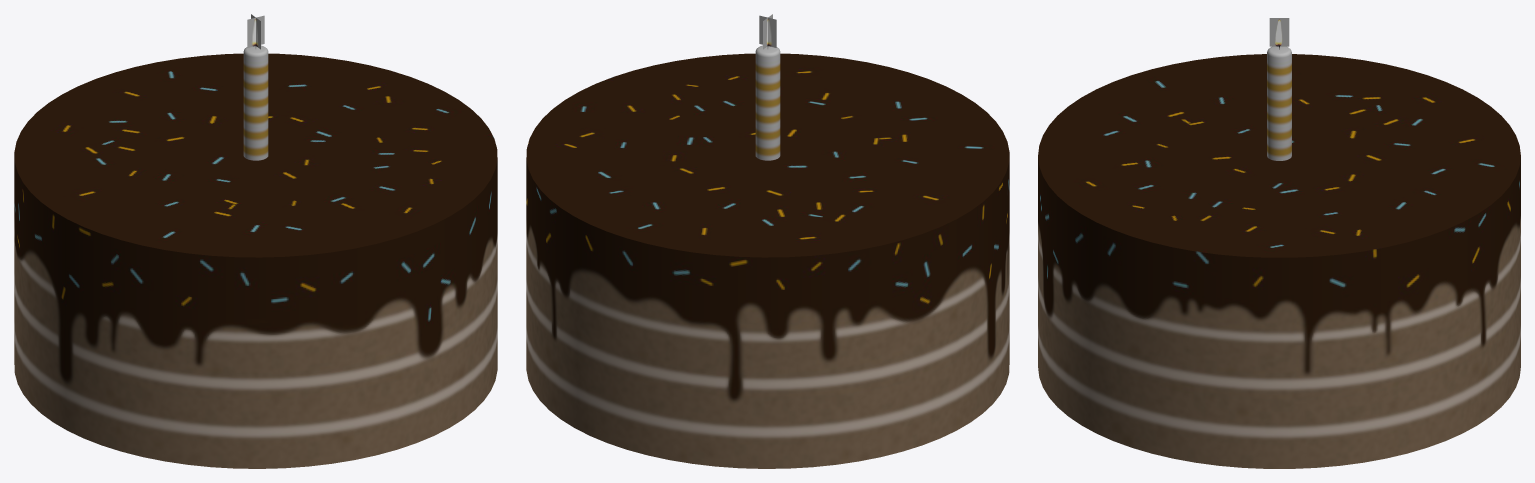
The model's file is cake.fbx.
The picture shows the model from 3 angles, left to right: view 1: azimuth 30°, elevation 25°; view 2: azimuth 150°, elevation 25°; view 3: azimuth 270°, elevation 25°; orthographic projection.
Visible parts, largest first — view 1: cake_lp, Cylinder; view 2: cake_lp, Cylinder; view 3: cake_lp, Cylinder, Plane.001.
Boxes of the visible parts, bbox=[...] form: cake_lp: bbox=[14, 53, 497, 468]; Cylinder: bbox=[243, 45, 268, 160]; cake_lp: bbox=[526, 53, 1009, 468]; Cylinder: bbox=[755, 45, 780, 160]; cake_lp: bbox=[1038, 54, 1520, 468]; Cylinder: bbox=[1267, 46, 1291, 160]; Plane.001: bbox=[1269, 18, 1289, 46].
Size of the model in its own units: 213 by 170 by 213.
